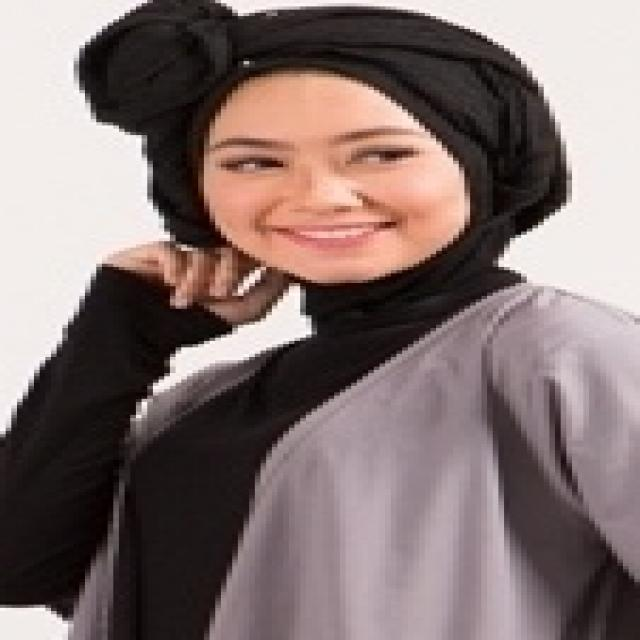head: (144, 29, 534, 287)
